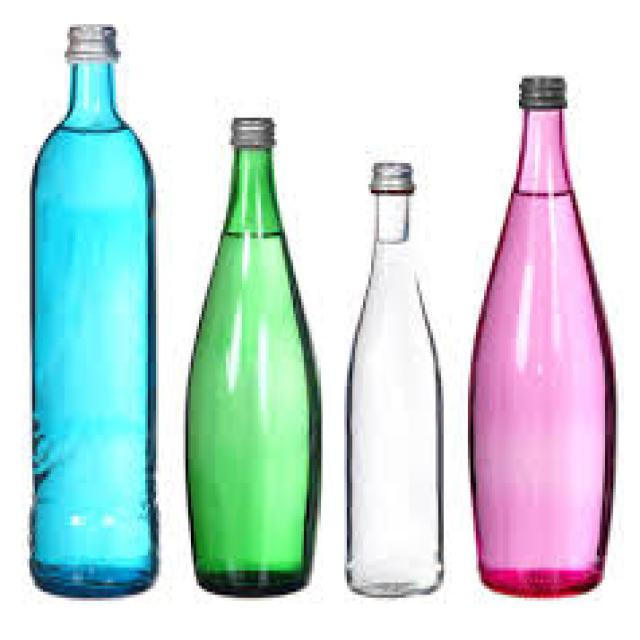Plastico: (340, 146, 456, 600)
Vidrio: (24, 12, 168, 616), (462, 57, 614, 604), (180, 106, 320, 614)
